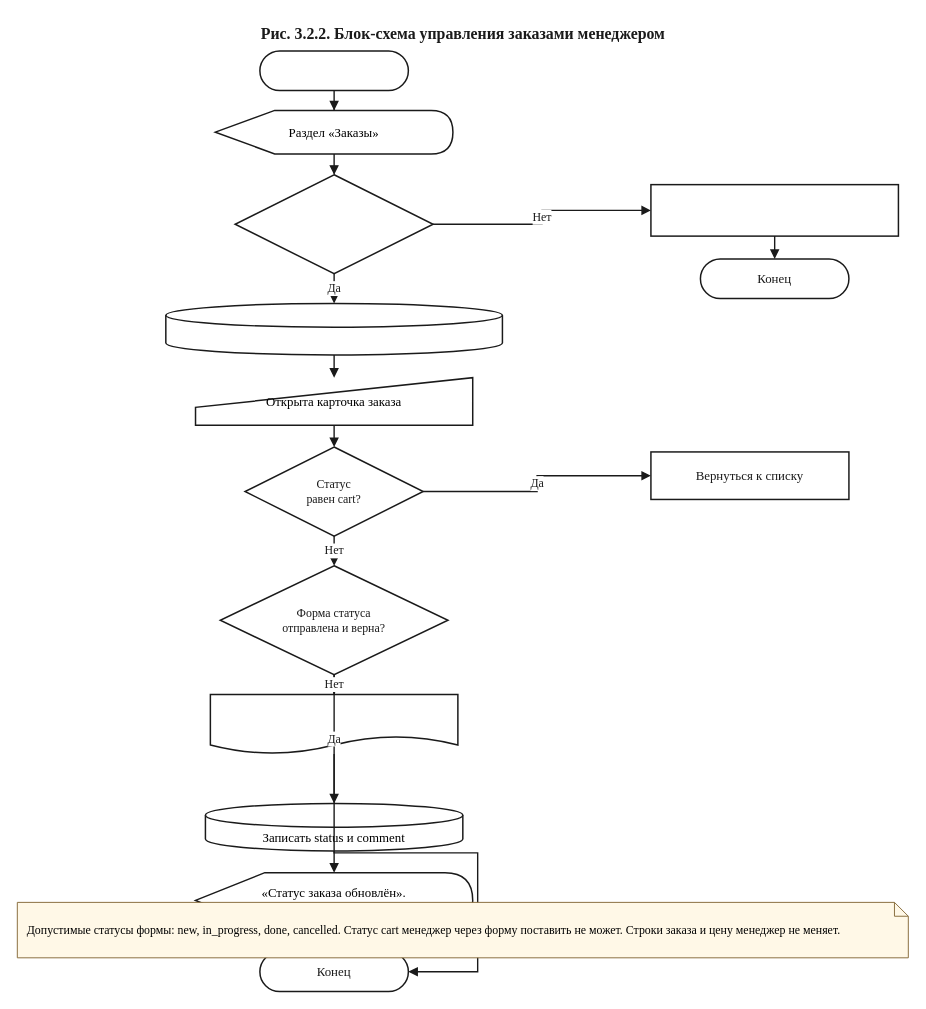
Image size: 926x1009. Some labels were removed from this diagram. Here are the shapes that lost their labels. From the top down, the box of each, then its label:
(259, 50, 409, 91): Начало
(234, 174, 433, 274): Роль — «Менеджер»?
(650, 183, 899, 236): Отказ. На главную или на вход
(165, 302, 503, 355): Все заказы, кроме корзины (status ≠ cart)
(209, 693, 458, 754): Показать состав и форму: статус и комментарий
